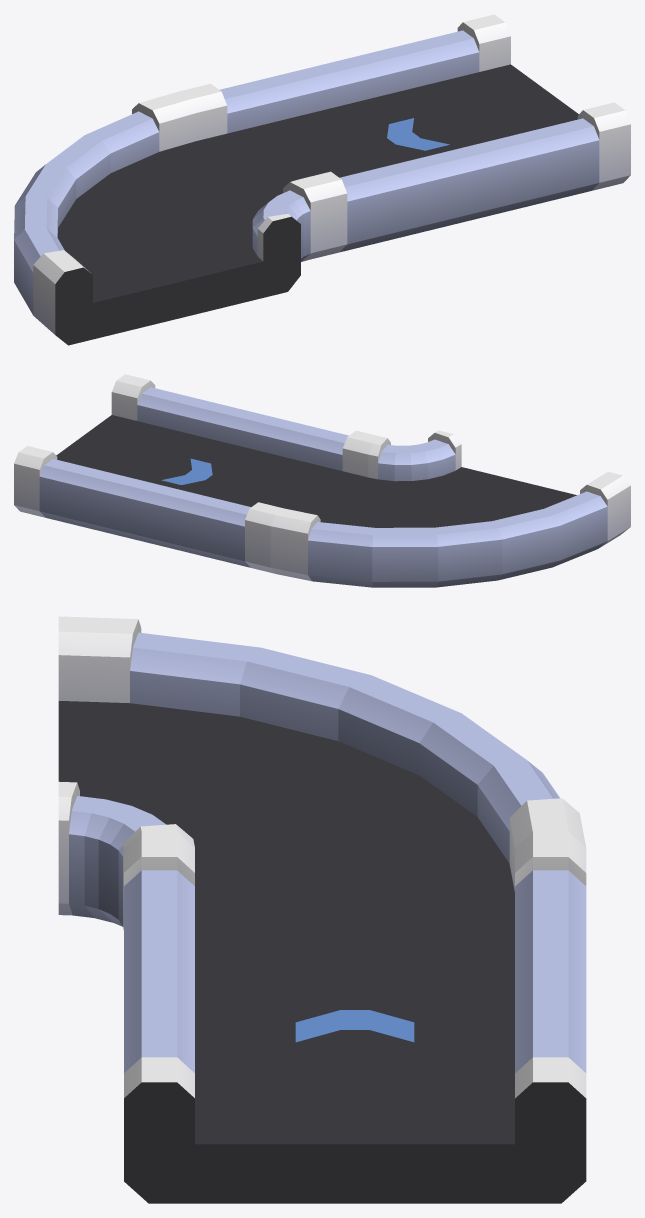
File: Belts.fbx
The picture shows the model from 3 angles, top to bottom: view 1: azimuth 30°, elevation 25°; view 2: azimuth 150°, elevation 25°; view 3: azimuth 270°, elevation 25°; orthographic projection. The views are drawn at different scales.
Parts seen in each view (by area): view 1: BeltStraight, BeltCurve, Arrow; view 2: BeltStraight, BeltCurve, Arrow; view 3: BeltStraight, BeltCurve, Arrow.
Part boxes in pixels (left/top/right/bottom): BeltStraight: left=179, top=14, right=630, bottom=259; BeltCurve: left=14, top=91, right=315, bottom=345; Arrow: left=387, top=118, right=449, bottom=150; BeltStraight: left=14, top=374, right=381, bottom=573; BeltCurve: left=270, top=430, right=630, bottom=587; Arrow: left=161, top=458, right=212, bottom=484; BeltStraight: left=124, top=832, right=586, bottom=1203; BeltCurve: left=58, top=616, right=586, bottom=929; Arrow: left=295, top=1010, right=414, bottom=1042.
Size of the model in its own units: 189 by 22.54 by 89.
